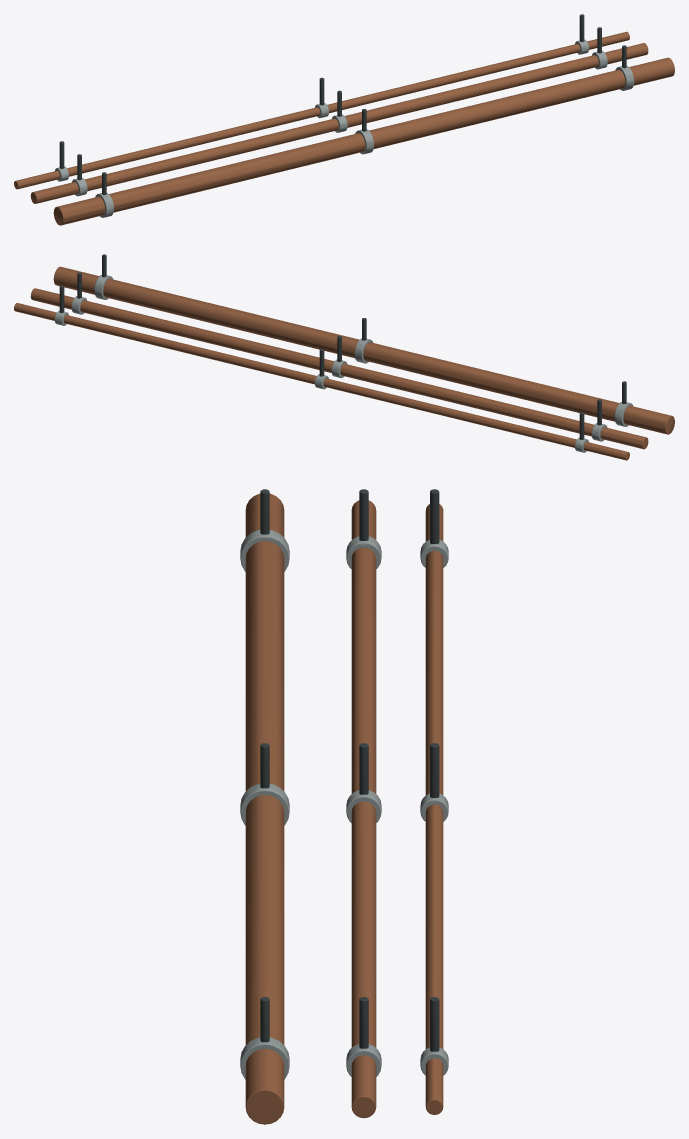
The model's file is H_PipeRun.fbx.
The picture shows the model from 3 angles, top to bottom: view 1: azimuth 30°, elevation 25°; view 2: azimuth 150°, elevation 25°; view 3: azimuth 270°, elevation 25°; orthographic projection. The views are drawn at different scales.
Visible parts, largest first — view 1: H_PipeRun; view 2: H_PipeRun; view 3: H_PipeRun.
Boxes of the visible parts, bbox=[...] form: H_PipeRun: bbox=[14, 14, 674, 225]; H_PipeRun: bbox=[14, 254, 674, 460]; H_PipeRun: bbox=[240, 489, 448, 1124].
Bounding box in the file's own units: 4 × 0.27 × 0.59.
